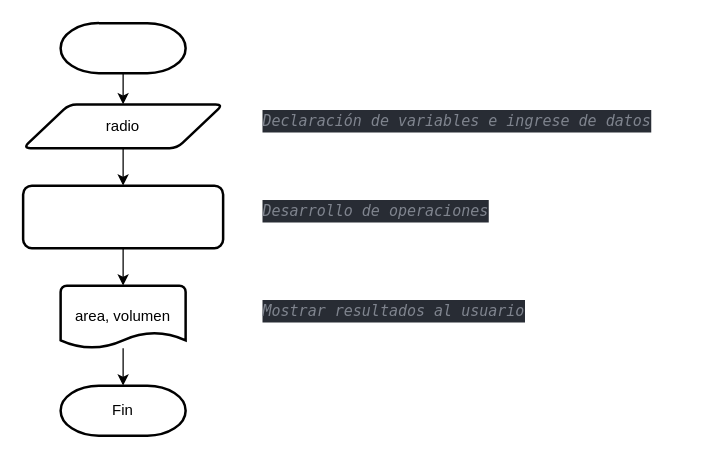
Image size: 706x458. Some labels were removed from this diagram. The box of each missing label's shape, as (x1, y1, x2, y2) in pixels:
area = 4*pi*radio^2 volumen = 1/3*pi*radio^3: (21, 184, 224, 249)
Inicio: (59, 21, 186, 74)
